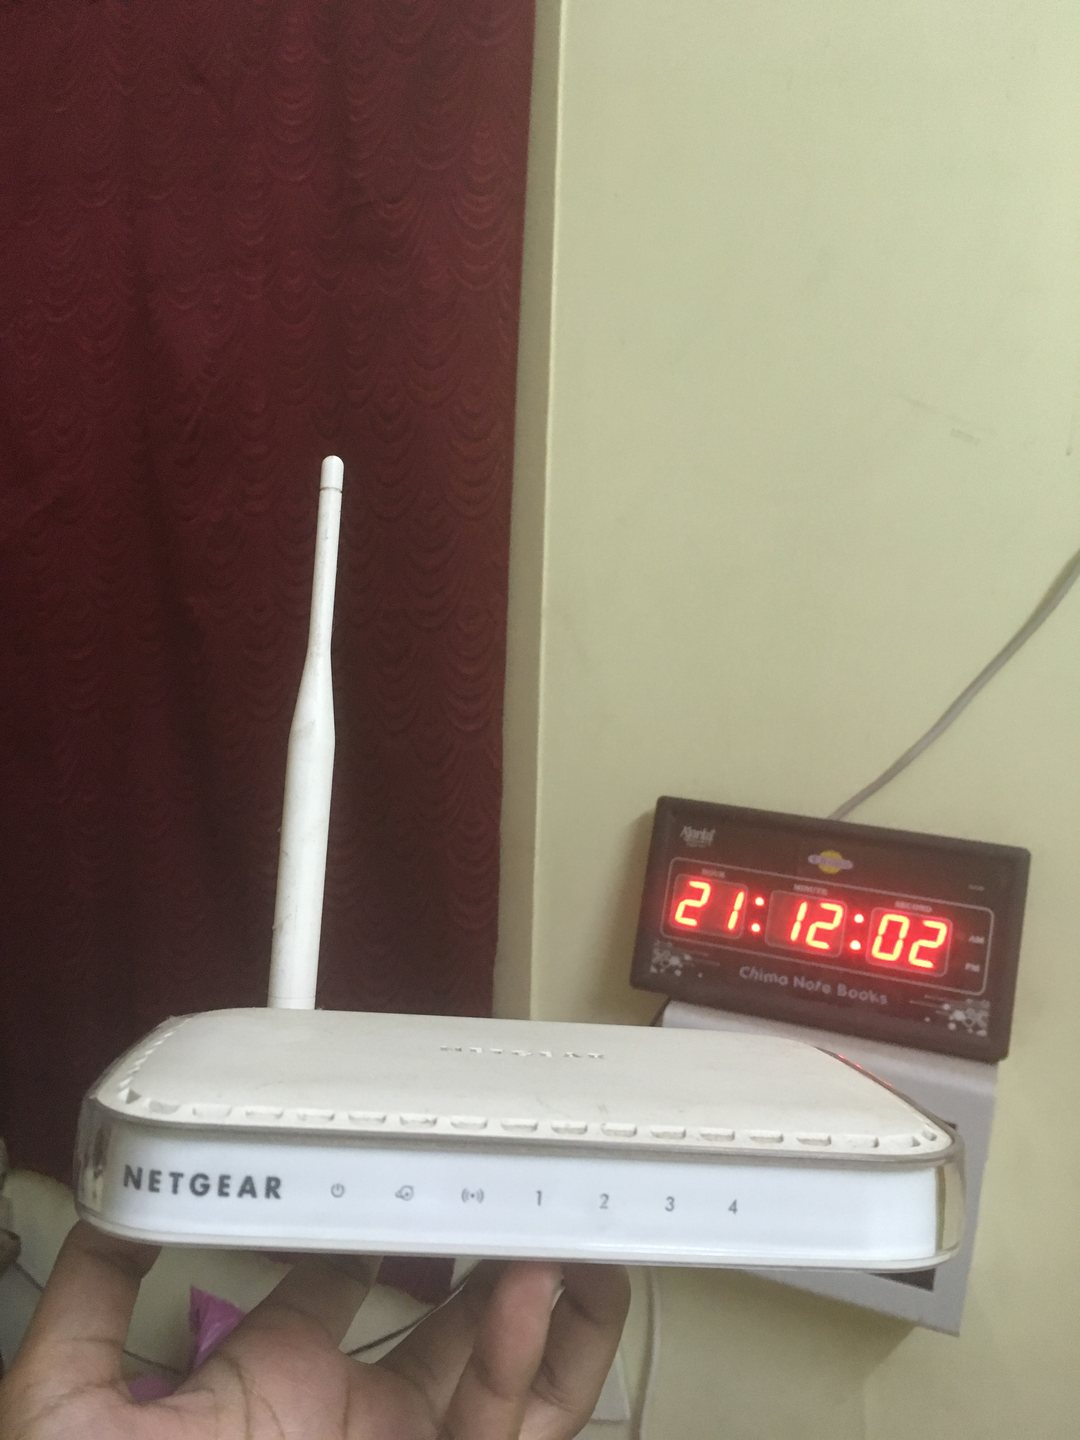NETGEAR: (115, 1160, 292, 1209)
modem: (66, 1102, 963, 1270)
